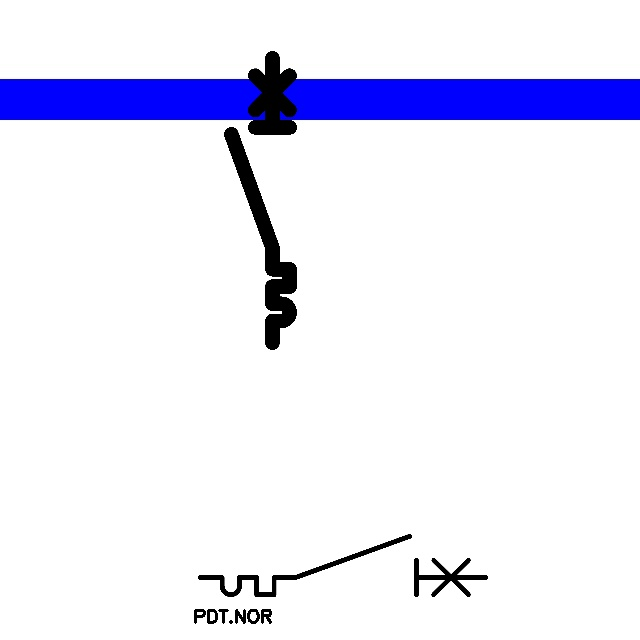interruptor_termomagnetico: (193, 529, 493, 602), (224, 51, 297, 350)
